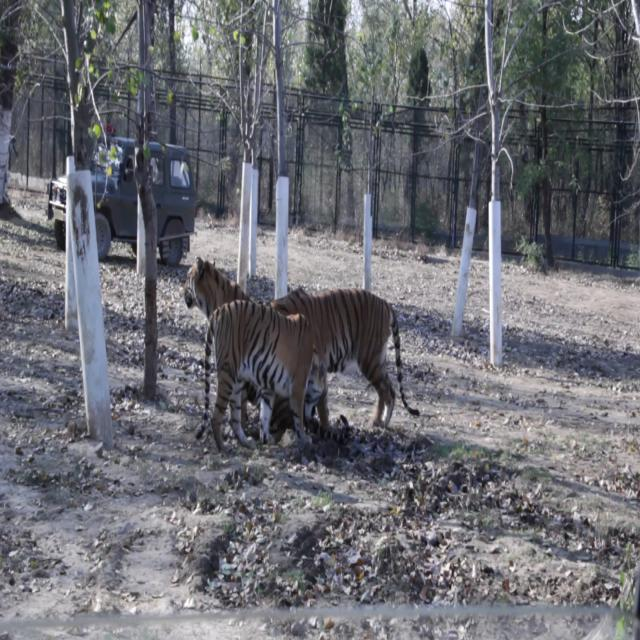Tiger: (191, 298, 330, 454), (290, 281, 417, 425), (178, 253, 264, 312)
